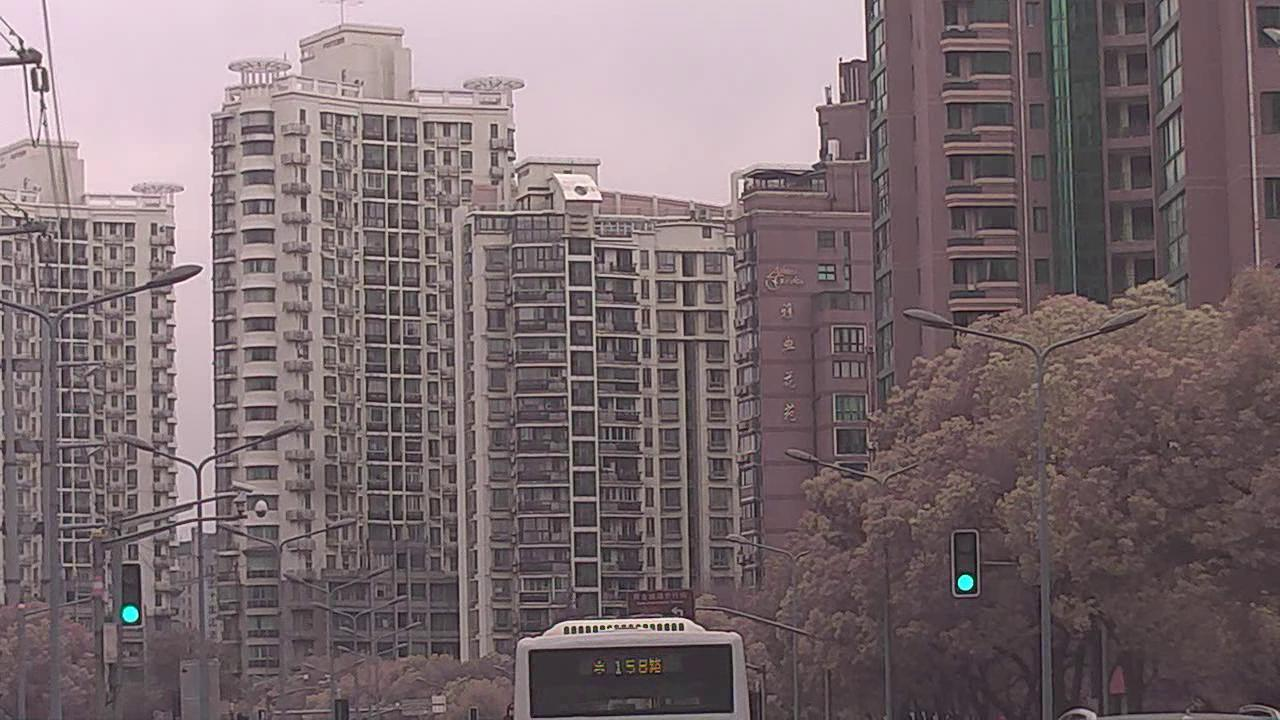traffic_light: (949, 529, 980, 597), (119, 561, 143, 628)
